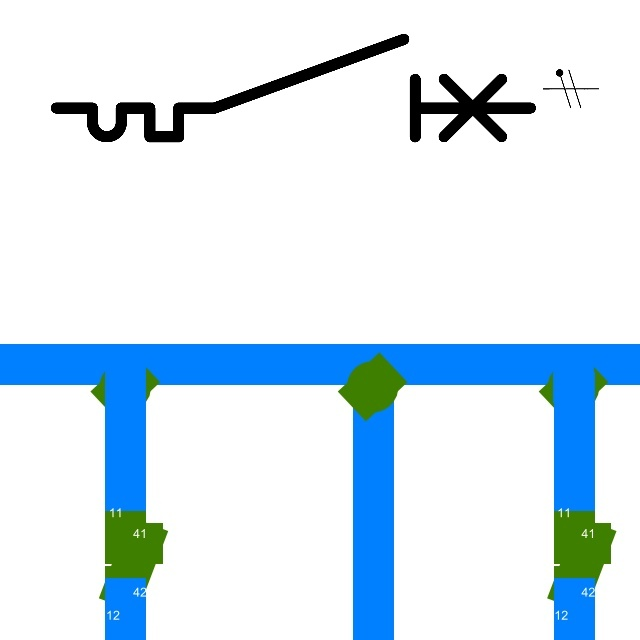interruptor_termomagnetico: (44, 27, 542, 149)
